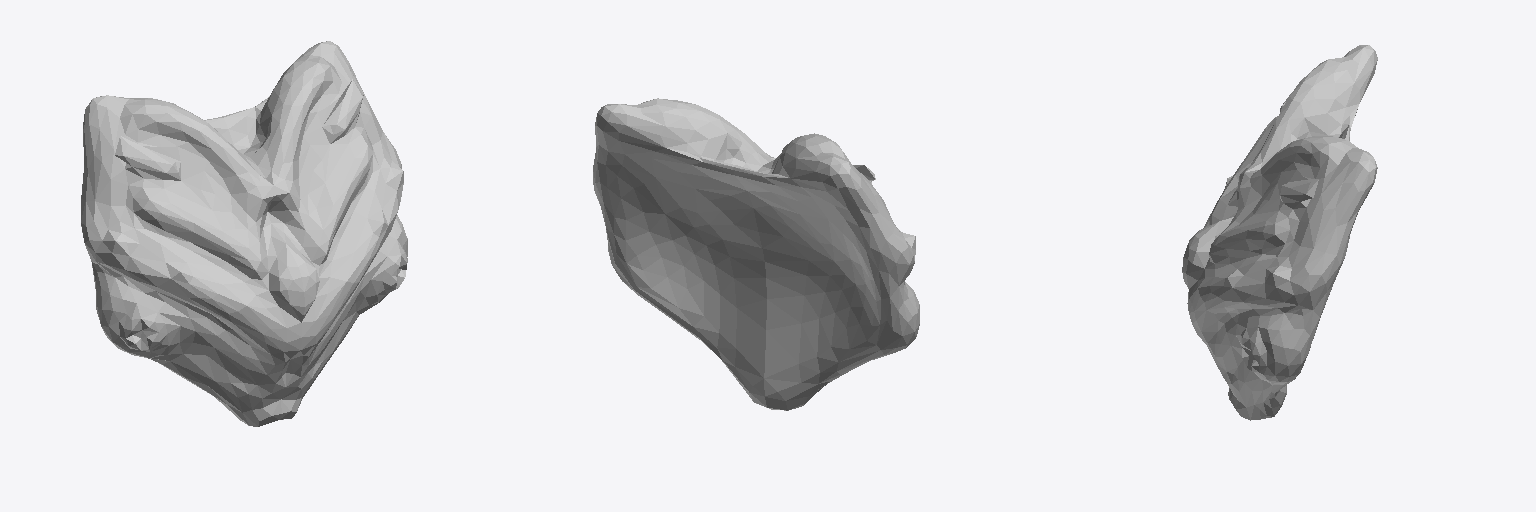
File: Chest plate.OBJ
3 renders of one model, left to right at view 1: azimuth 30°, elevation 25°; view 2: azimuth 150°, elevation 25°; view 3: azimuth 270°, elevation 25°, orthographic.
Visible parts, largest first — view 1: Group13023; view 2: Group13023; view 3: Group13023.
Boxes of the visible parts, x1,y1,x2,y2 form: Group13023: [81, 41, 407, 426]; Group13023: [593, 98, 919, 410]; Group13023: [1182, 45, 1377, 420].
Bounding box in the file's own units: 35.38 × 33.72 × 19.14.